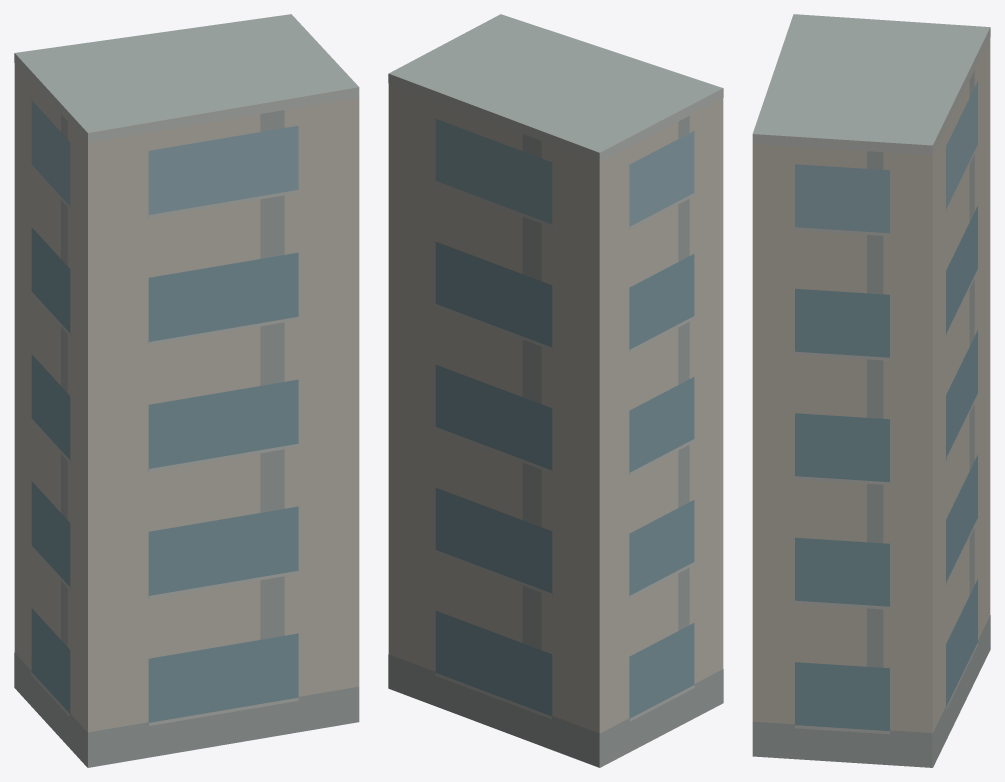
File: survey-upis-32579686.glb
3 views of the same model, side by side, from view 1: azimuth 30°, elevation 25°; view 2: azimuth 150°, elevation 25°; view 3: azimuth 270°, elevation 25° (orthographic). The views are drawn at different scales.
Parts seen in each view (by area): view 1: survey-upis-32579686.tmp; view 2: survey-upis-32579686.tmp; view 3: survey-upis-32579686.tmp.
Boxes of the visible parts, x1,y1,x2,y2 form: survey-upis-32579686.tmp: [14, 14, 359, 767]; survey-upis-32579686.tmp: [388, 14, 723, 767]; survey-upis-32579686.tmp: [752, 14, 990, 767].
Size of the model in its own units: 6.92 by 15.25 by 5.29.
